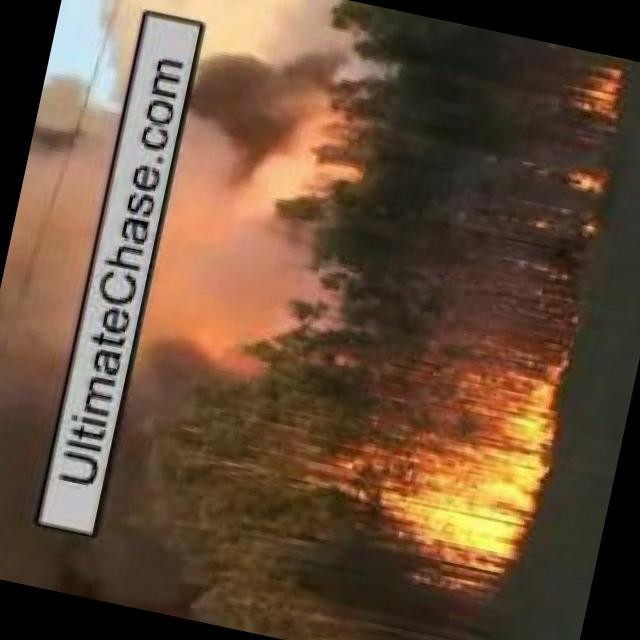Fire: (386, 340, 570, 571), (561, 57, 630, 120), (555, 164, 608, 200)
